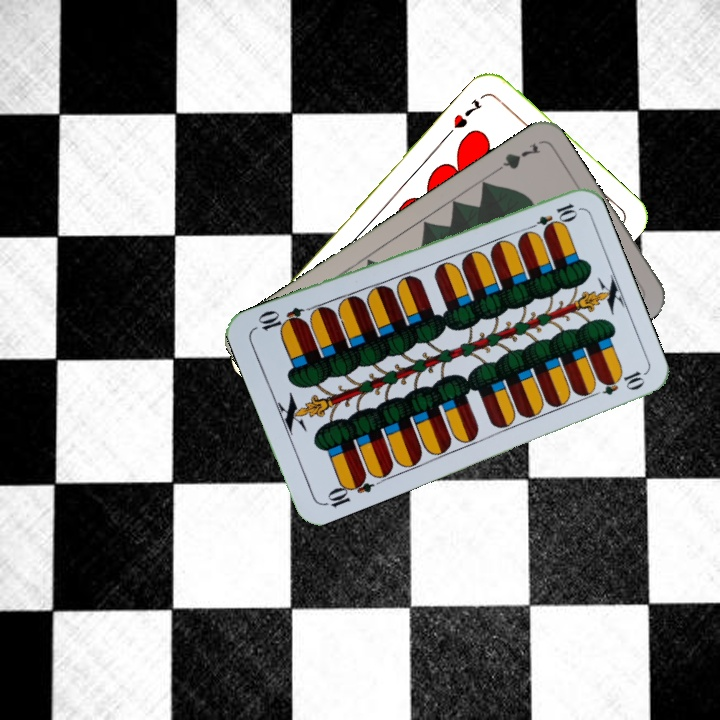E10: (319, 470, 376, 510), (522, 199, 580, 235)
G7: (488, 139, 543, 177)
H7: (449, 95, 485, 132)
